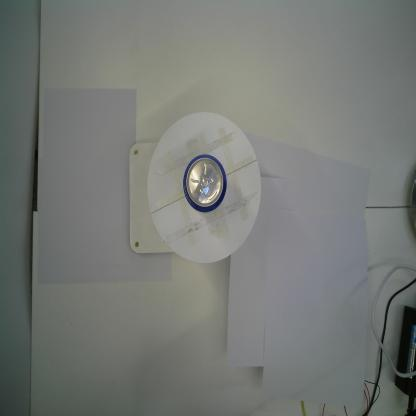Alcohol: (182, 152, 228, 214)
